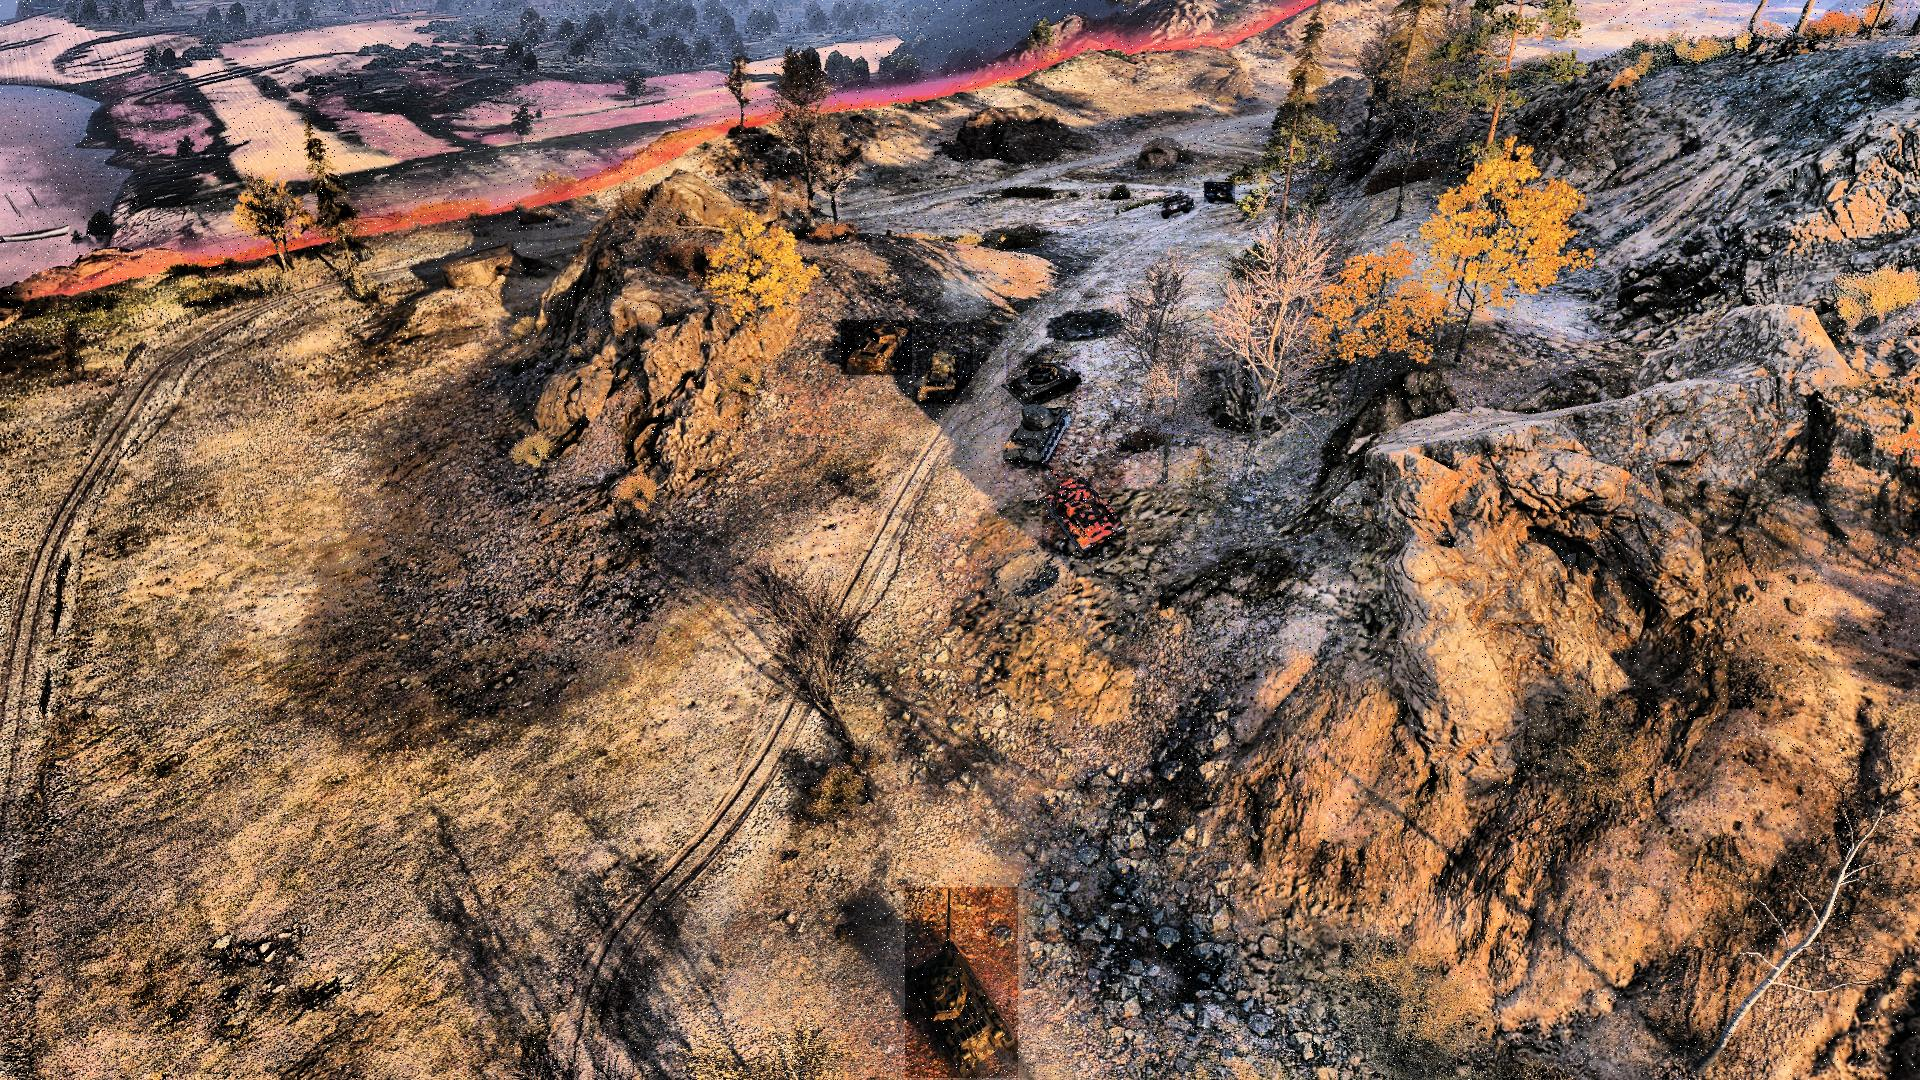military-vehicle: (905, 887, 1018, 1079), (1042, 464, 1126, 553), (1002, 385, 1068, 465), (916, 322, 973, 405), (1006, 351, 1081, 406), (841, 320, 913, 376), (1159, 190, 1195, 219), (1205, 183, 1236, 204)
